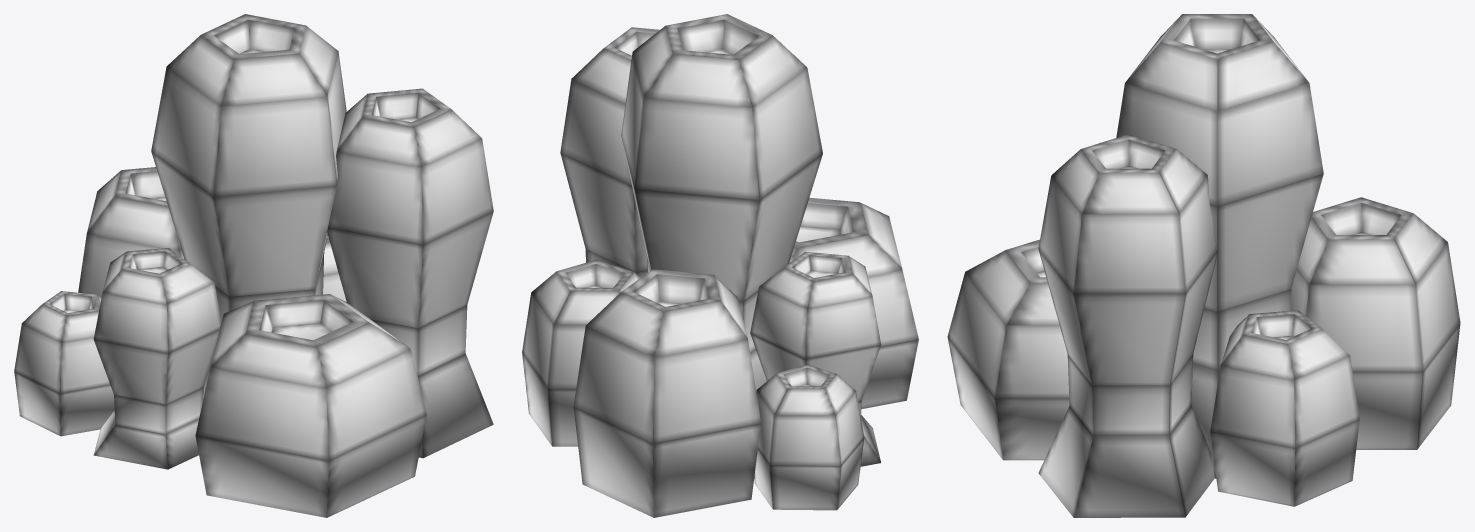
The model's file is Alien-Cocoon-01.fbx.
The picture shows the model from 3 angles, left to right: view 1: azimuth 30°, elevation 25°; view 2: azimuth 150°, elevation 25°; view 3: azimuth 270°, elevation 25°; orthographic projection. The views are drawn at different scales.
Visible parts, largest first — view 1: Alien-Cocoon-01; view 2: Alien-Cocoon-01; view 3: Alien-Cocoon-01.
Boxes of the visible parts, left/top/right/bottom form: Alien-Cocoon-01: left=14, top=14, right=493, bottom=517; Alien-Cocoon-01: left=522, top=14, right=918, bottom=517; Alien-Cocoon-01: left=947, top=14, right=1460, bottom=517.
Size of the model in its own units: 0.7789 by 0.801 by 0.9375.
